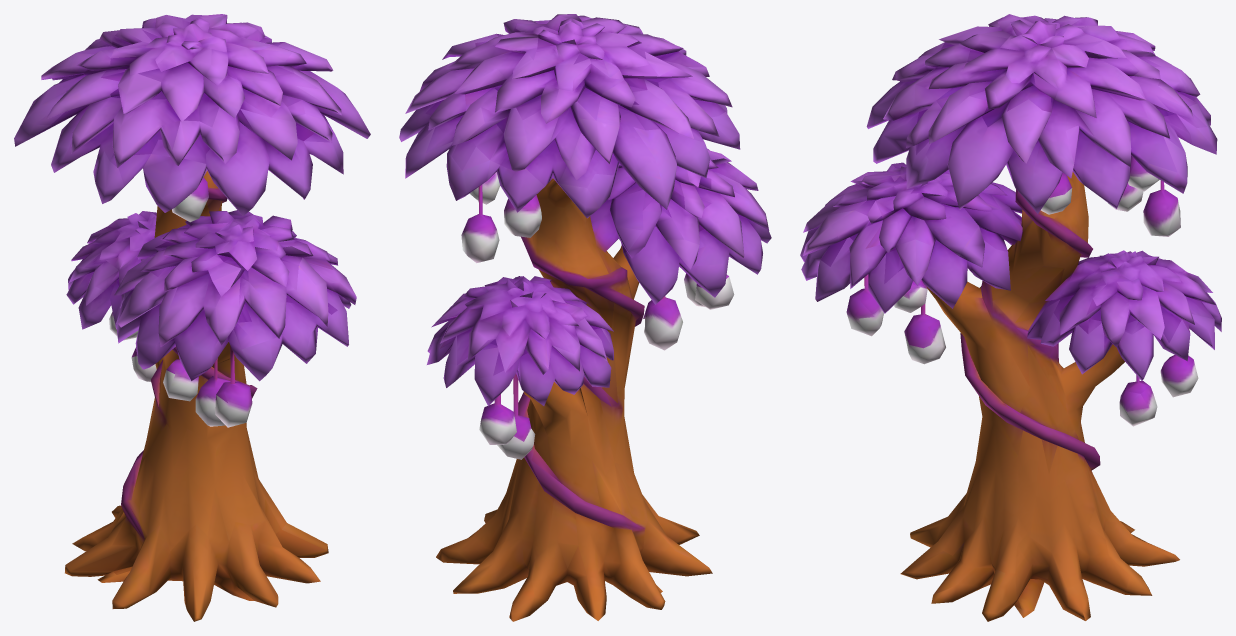
File: tree_twotier.glb
3 views of the same model, side by side, from view 1: azimuth 30°, elevation 25°; view 2: azimuth 150°, elevation 25°; view 3: azimuth 270°, elevation 25° (orthographic).
Visible parts, largest first — view 1: tripo_node_1ba98ba2-8cc3-42db-8146-cf8f474115b3; view 2: tripo_node_1ba98ba2-8cc3-42db-8146-cf8f474115b3; view 3: tripo_node_1ba98ba2-8cc3-42db-8146-cf8f474115b3.
Boxes of the visible parts, box(x1,y1,x2,y2) form: tripo_node_1ba98ba2-8cc3-42db-8146-cf8f474115b3: box(14, 14, 370, 621); tripo_node_1ba98ba2-8cc3-42db-8146-cf8f474115b3: box(399, 14, 771, 621); tripo_node_1ba98ba2-8cc3-42db-8146-cf8f474115b3: box(800, 14, 1221, 621).
Bounding box in the file's own units: 2.67 × 5.02 × 3.51.
1 material, 1 textured.
